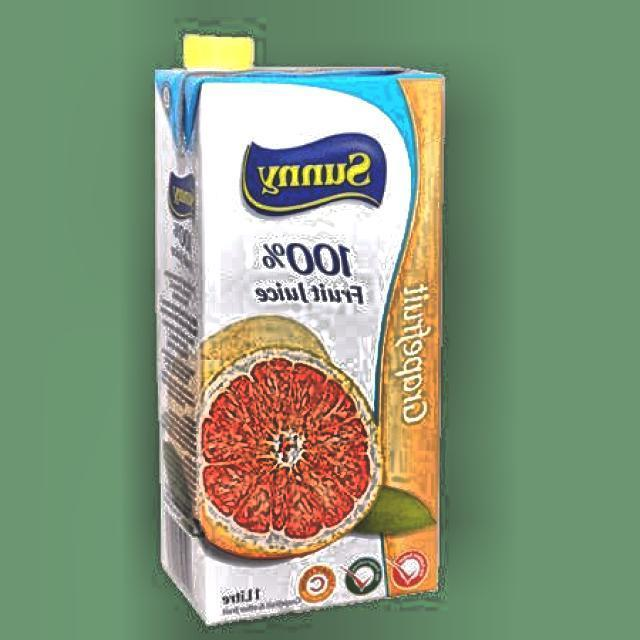cardboard: (154, 46, 446, 624)
